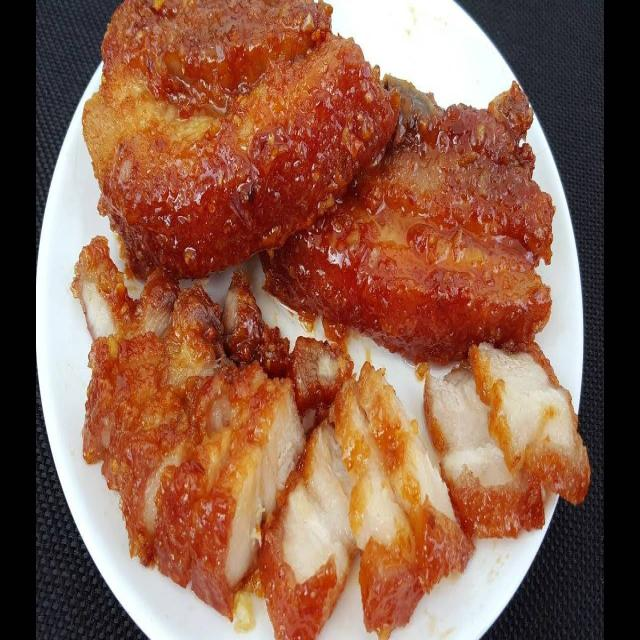thit chien: (70, 236, 589, 639), (84, 0, 399, 277), (260, 84, 554, 363)
